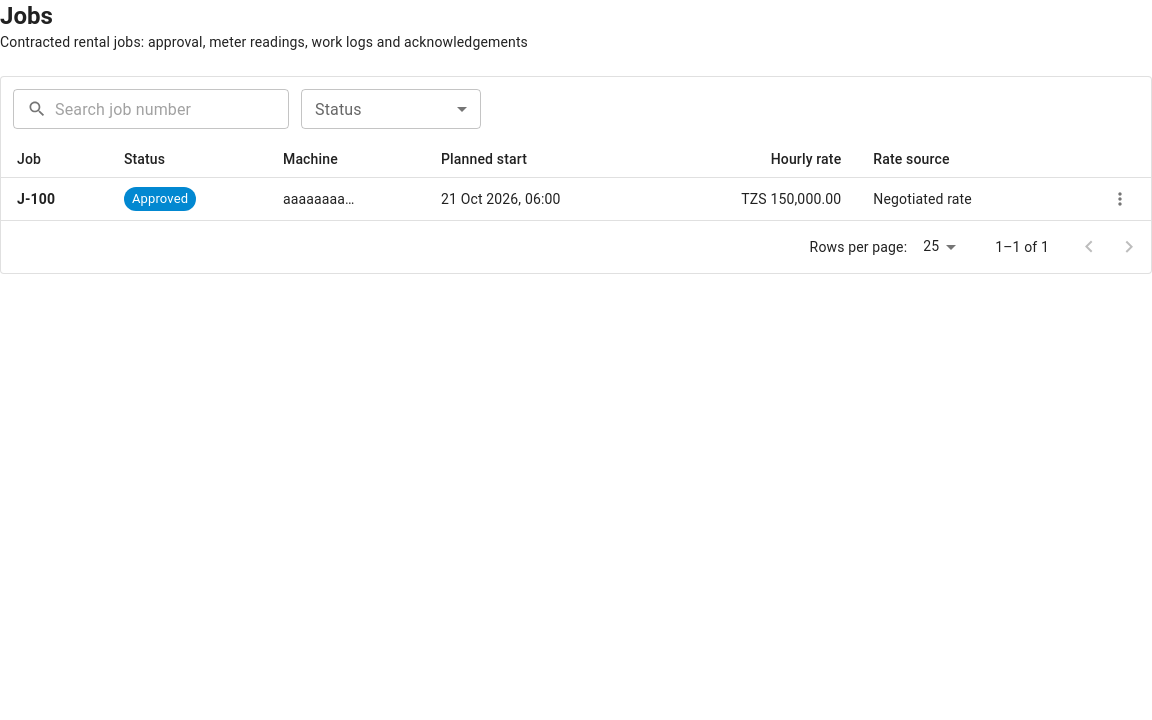
Scenario: job list row actions › shows the business error with its hint
Click the button named "Actions for job J-100" at (1120, 199), box left=1105, top=184, right=1135, bottom=214
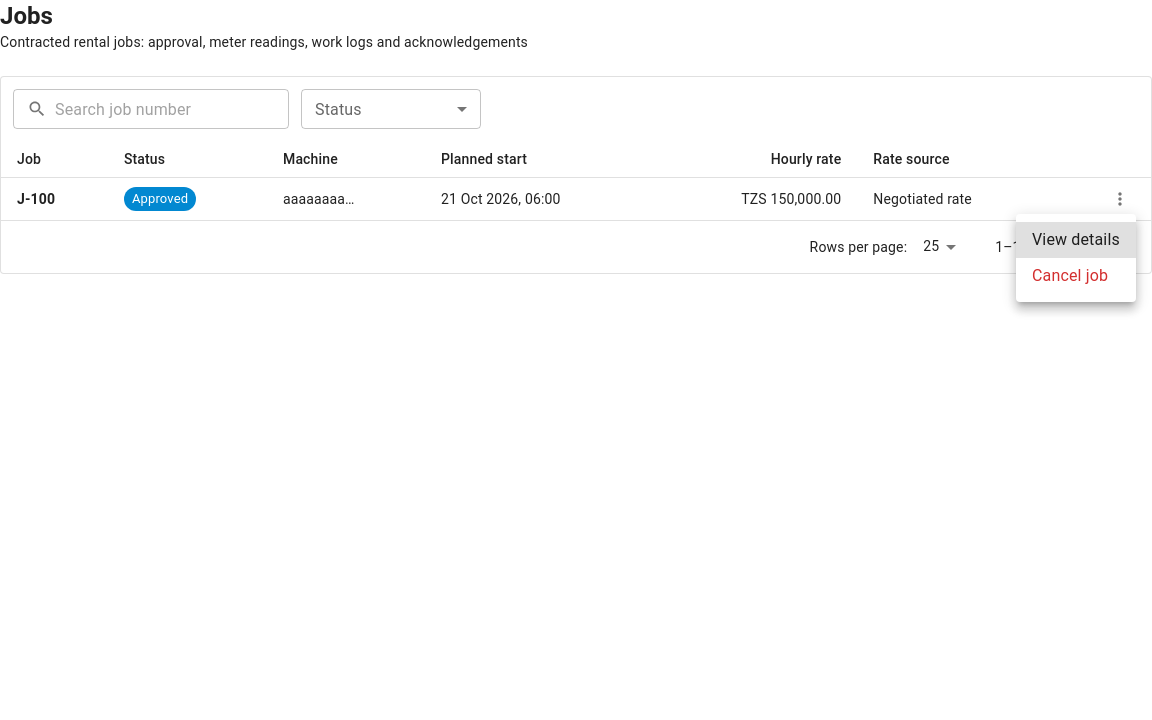
Click the menu item "Cancel job" at (1070, 276), box left=1032, top=266, right=1108, bottom=285
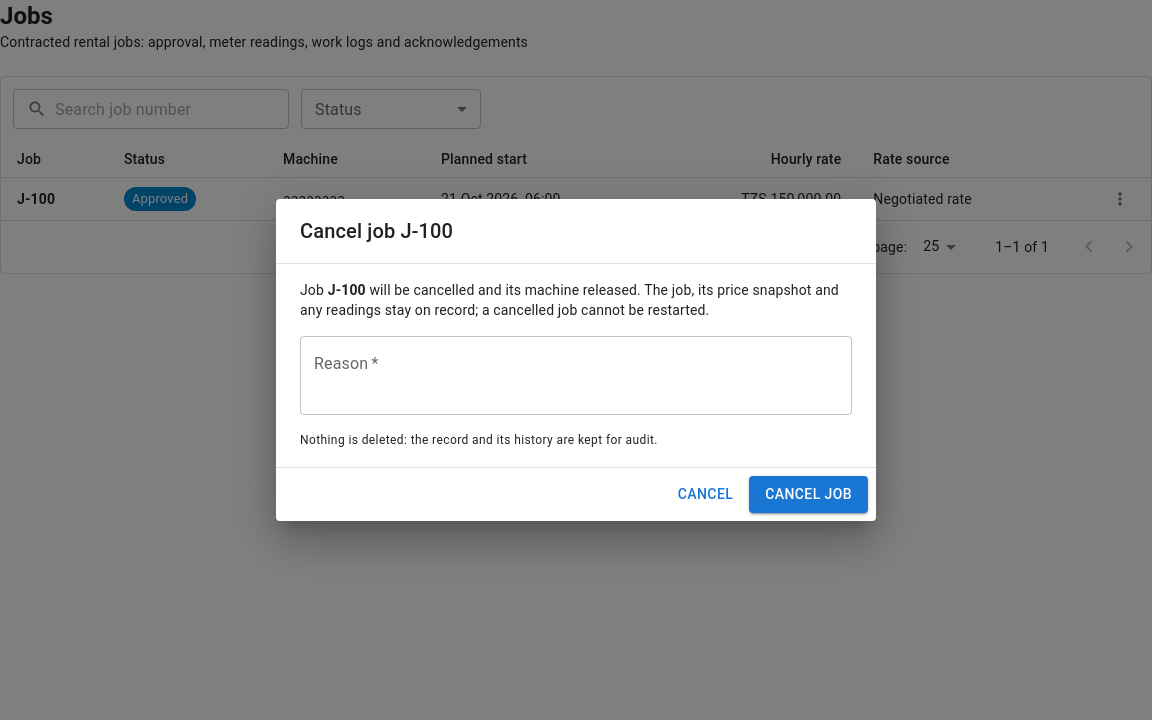
Type "Scope cut" into the text box labelled "Reason *" at (576, 376), box left=314, top=353, right=838, bottom=399
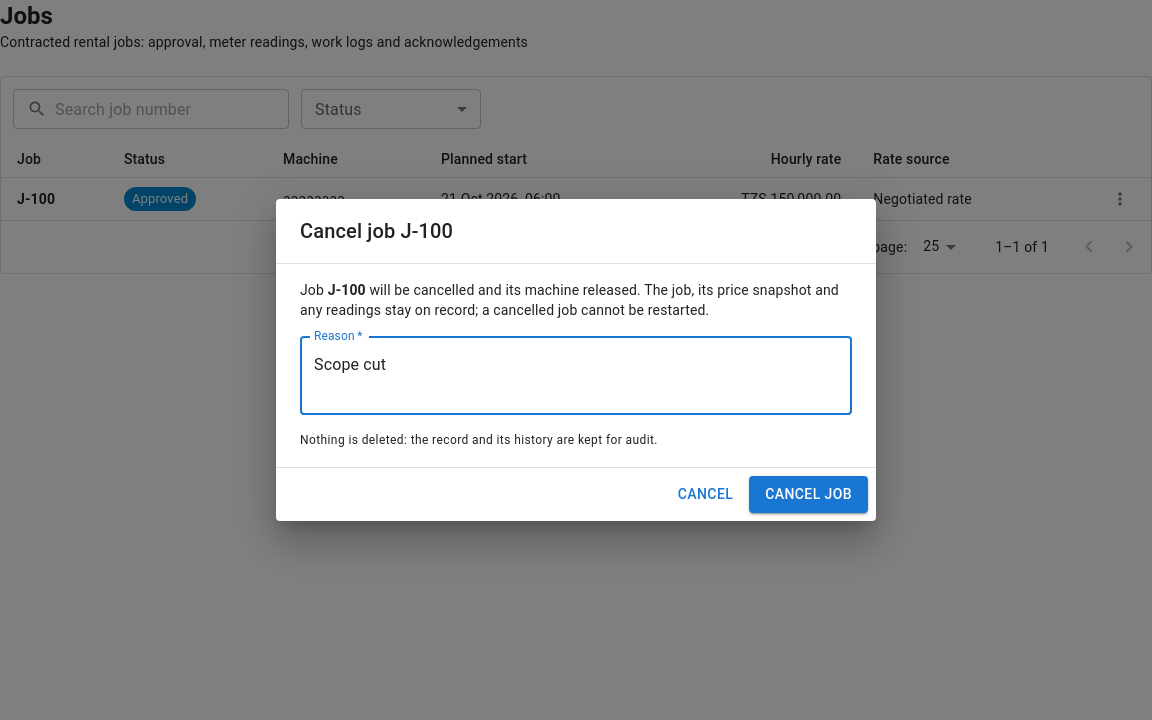
Click the button "Cancel job" at (809, 494), box left=749, top=476, right=868, bottom=513
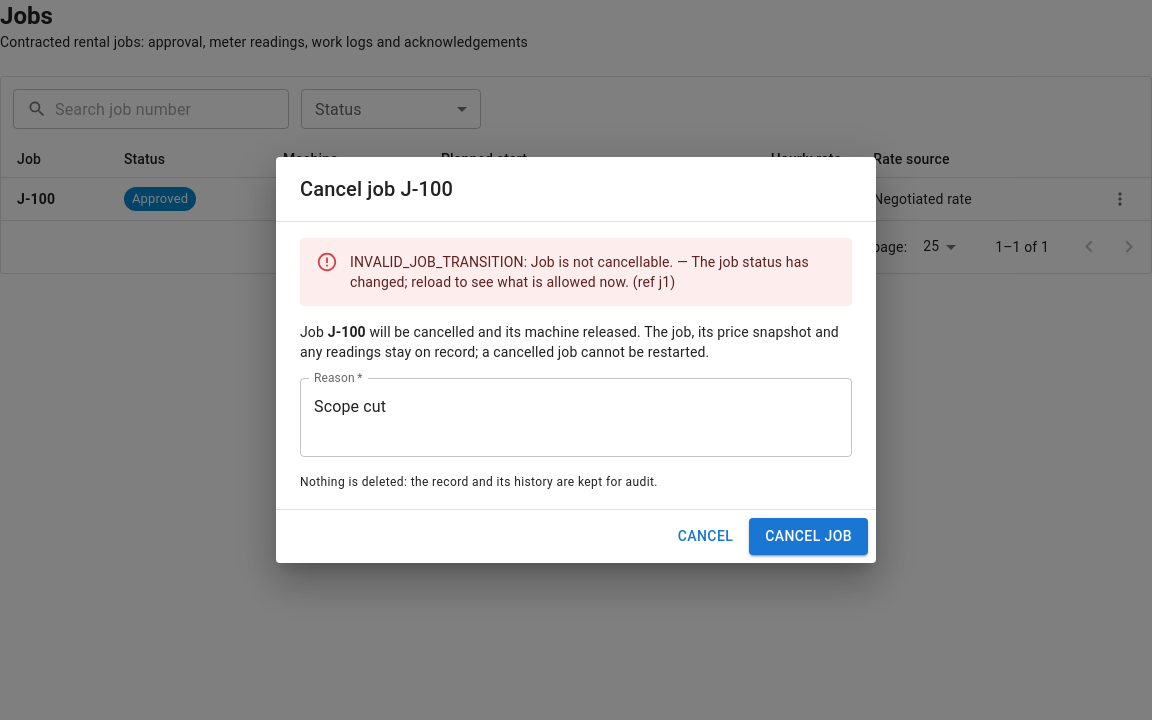
Expected: the text "INVALID_JOB_TRANSITION: Job is not cancellable. — The job status" is shown, left=350, top=254, right=809, bottom=290
